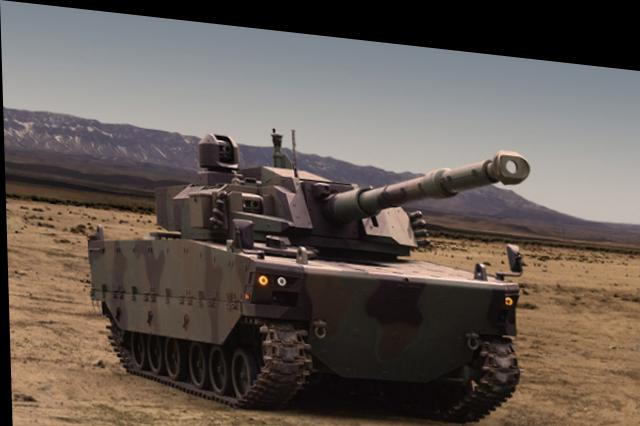tank: (83, 109, 528, 413)
